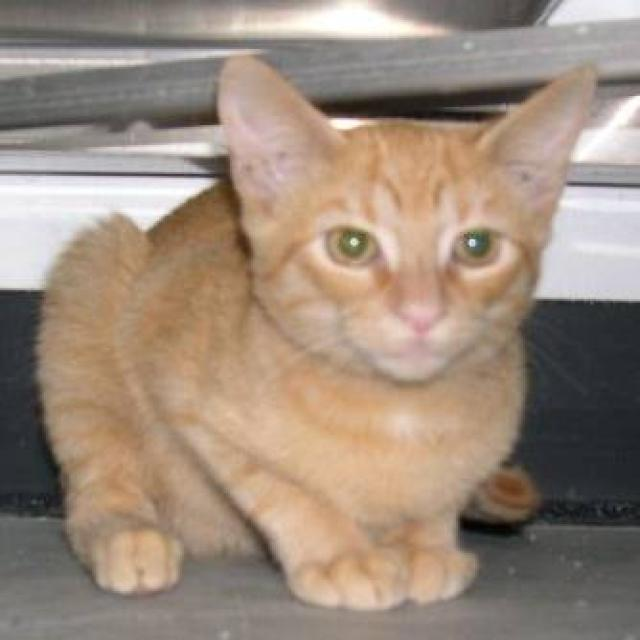cat: (31, 51, 598, 611)
